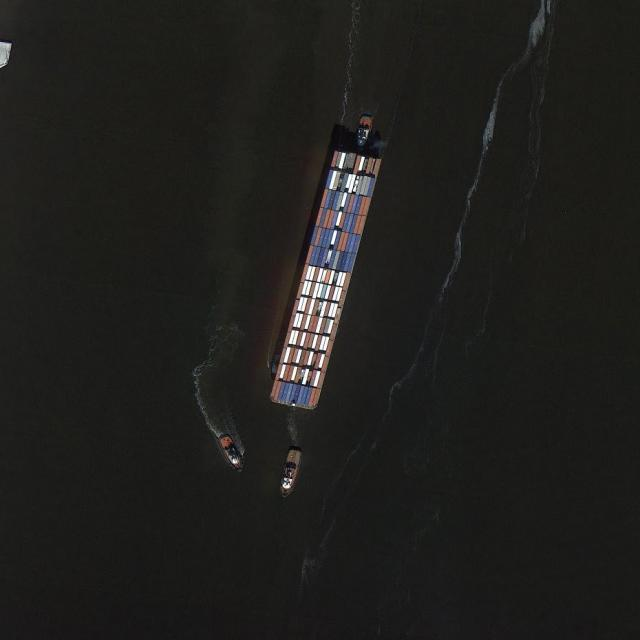Container Ship: (266, 145, 385, 414)
Other Ship: (275, 447, 304, 498), (216, 432, 246, 476), (354, 114, 374, 151)
